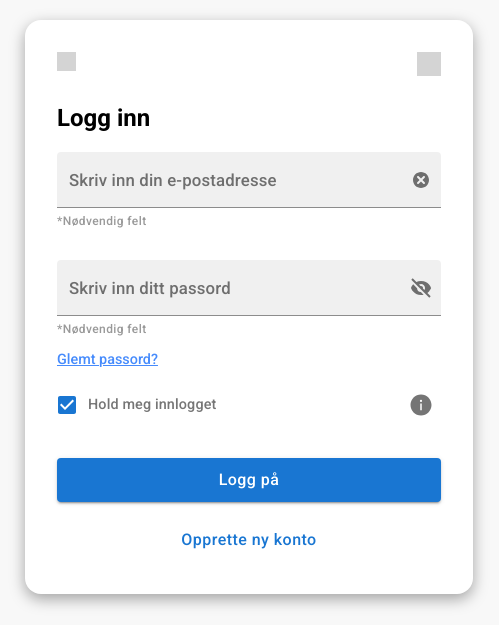
Should show error messages for password length
Type "test@email.com" into the field labelled "Skriv inn din e-postadresse". click: (225, 180)
box: 57,152 -> 393,208
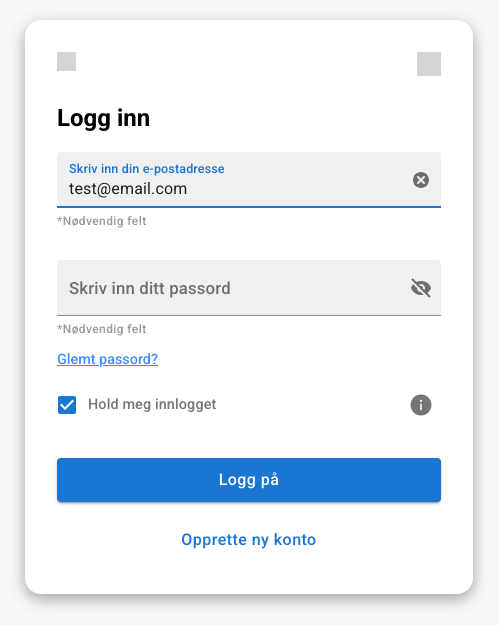
Type "123" into the password field labelled "Skriv inn ditt passord". click: (225, 288)
box: 57,260 -> 393,316
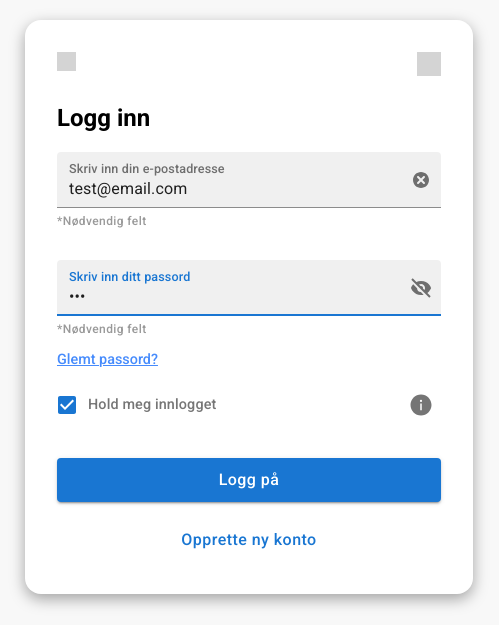
Click the button "Logg på". click: (249, 480)
box: 57,458 -> 441,502
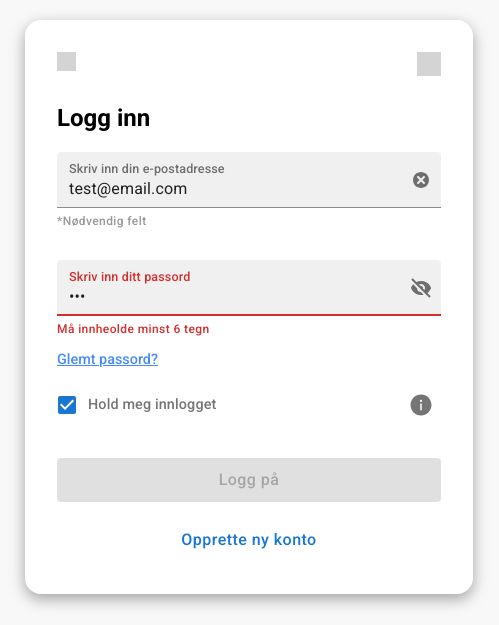
Expected: the text "Må innheolde minst 6 tegn" is shown, 57,322 -> 210,336
